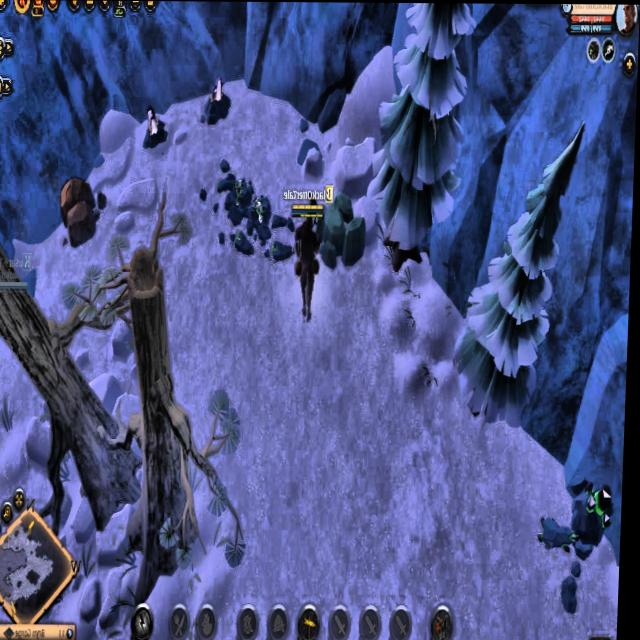copperore: (200, 74, 233, 129), (142, 102, 173, 152)
limestone: (57, 173, 109, 248)
sandstone: (317, 190, 373, 264)
